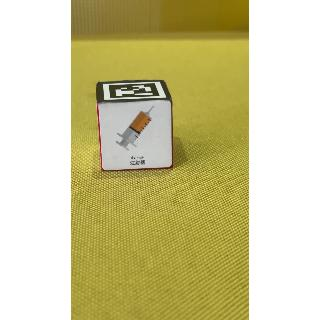Syringe: (98, 103, 178, 174)
